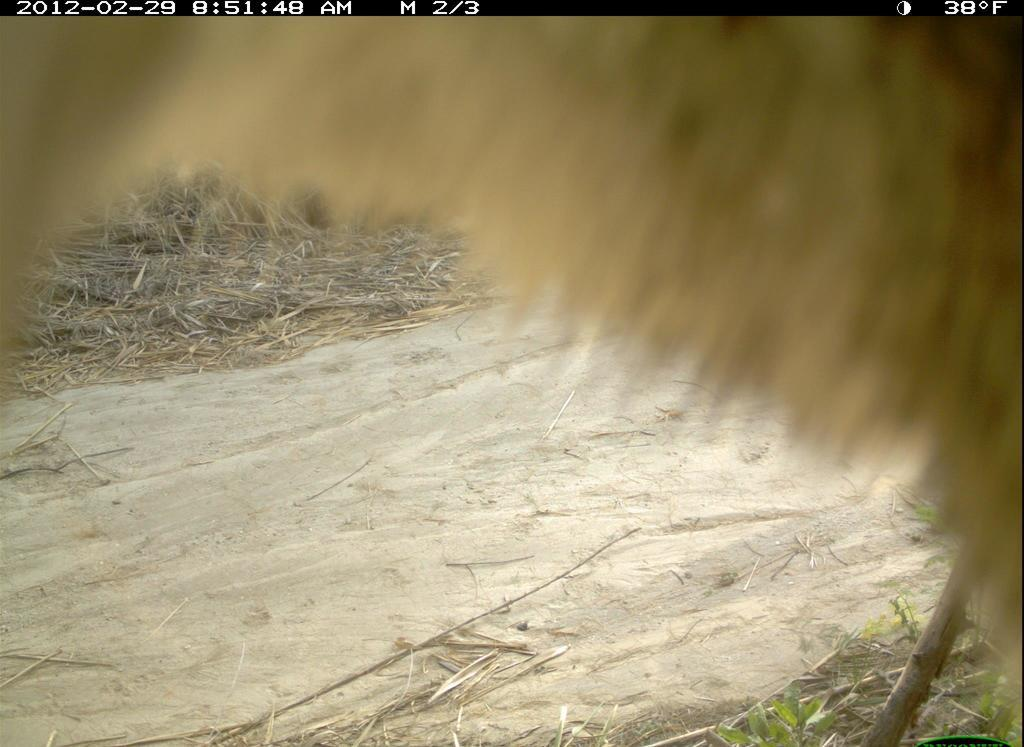coyote: (3, 16, 1024, 747)
